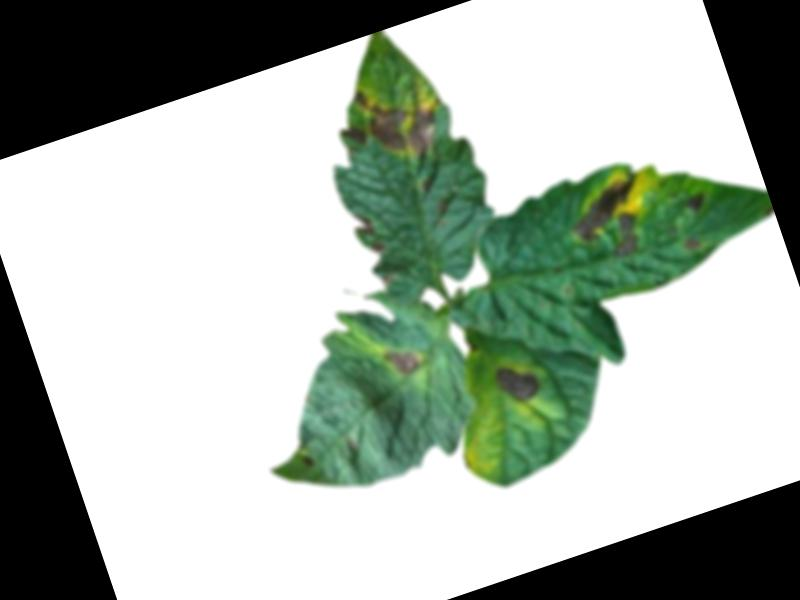Early_blight: (559, 173, 660, 270), (350, 70, 446, 171), (493, 357, 542, 408), (351, 208, 387, 258), (381, 345, 421, 380), (338, 119, 369, 151), (681, 190, 710, 216), (681, 236, 703, 256), (298, 452, 314, 470)
